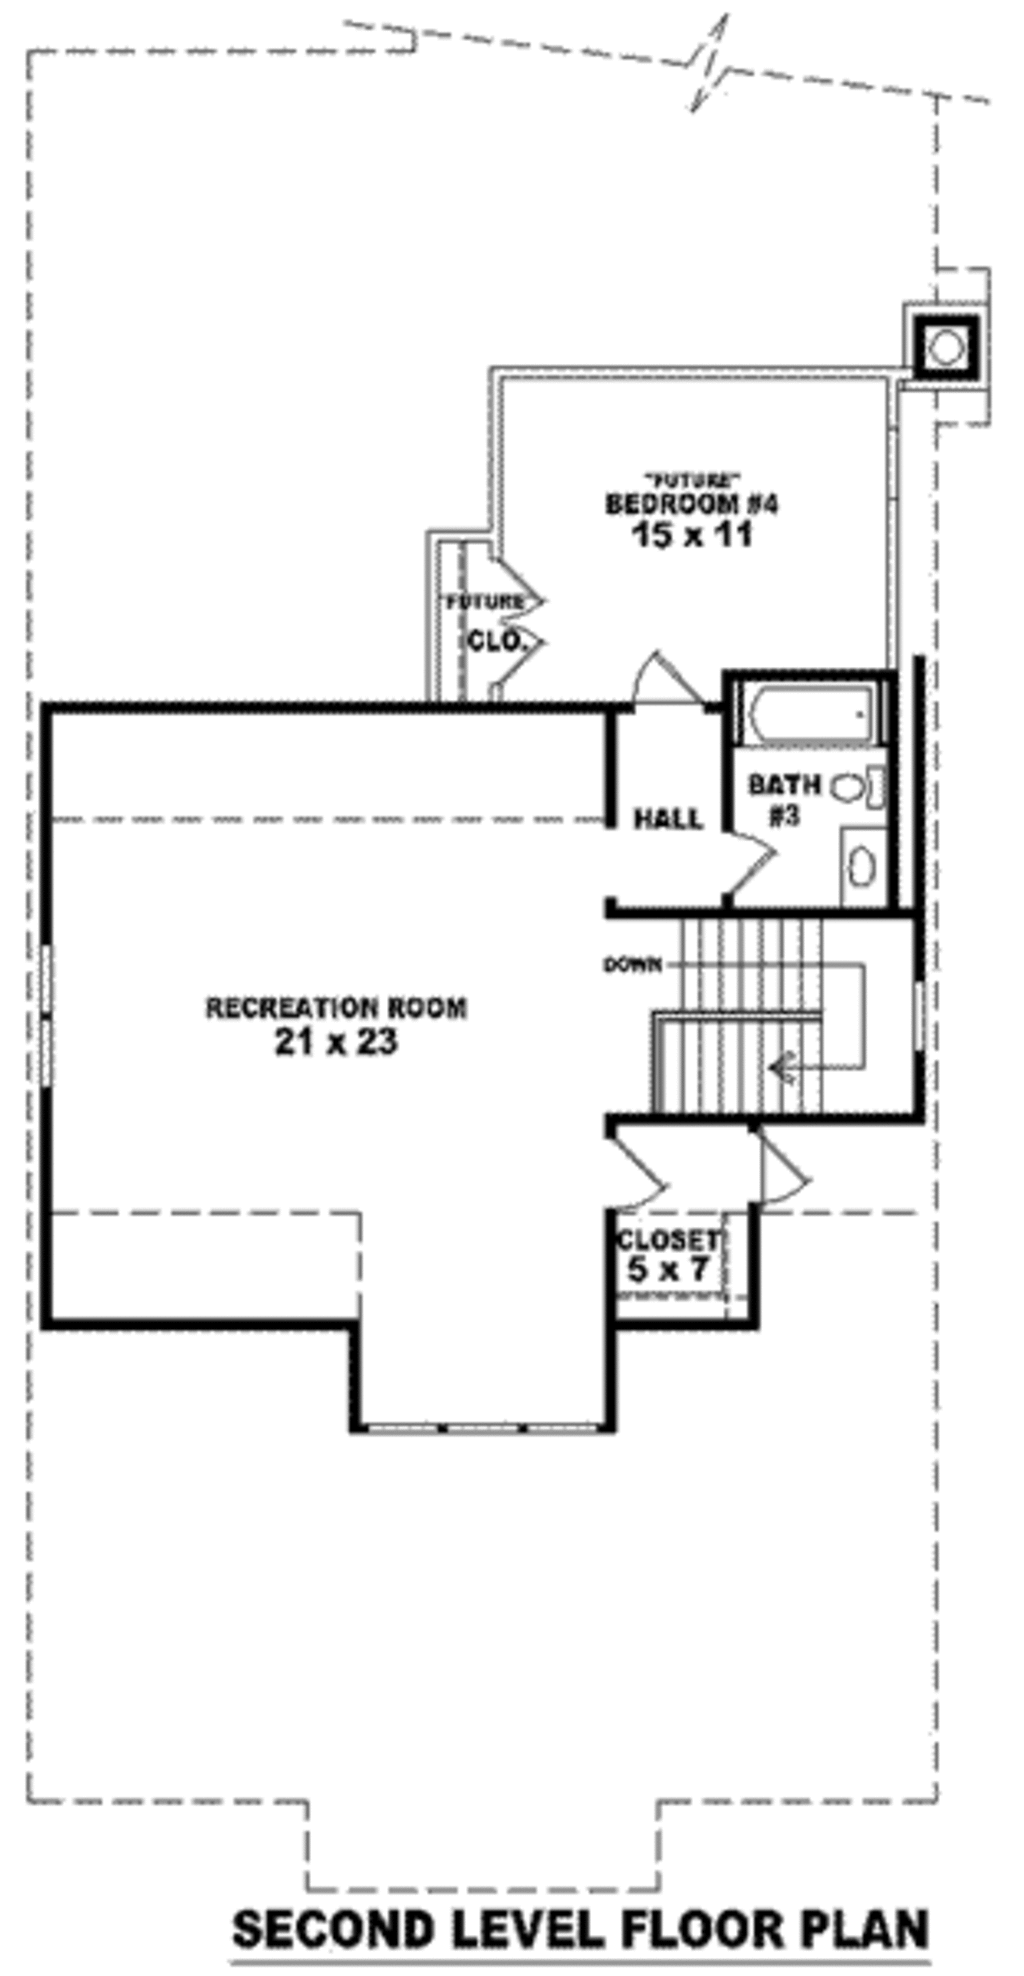door: (469, 539, 543, 695), (607, 633, 718, 724), (590, 1117, 677, 1229), (741, 1117, 823, 1211), (716, 823, 776, 914)
large_sink: (819, 748, 893, 823)
small_sink: (835, 836, 901, 914)
stairs: (601, 899, 916, 1108)
tub: (738, 683, 882, 739)
window: (370, 1395, 610, 1444), (34, 946, 54, 1101)
